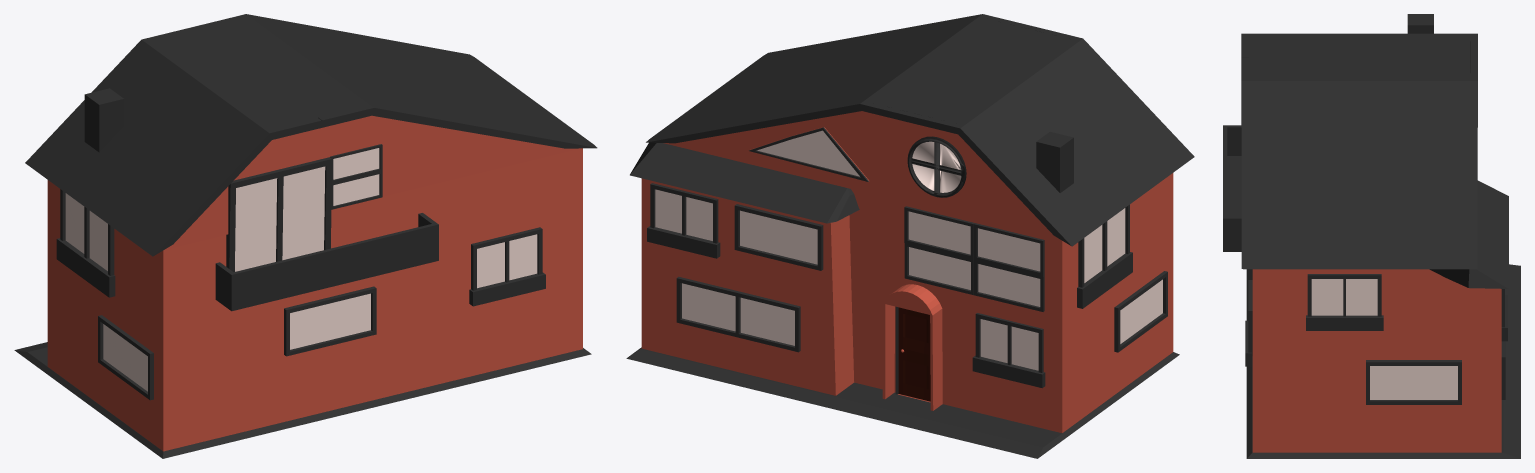
Rendered from bighouse.obj.
3 views of the same model, side by side, from view 1: azimuth 30°, elevation 25°; view 2: azimuth 150°, elevation 25°; view 3: azimuth 270°, elevation 25° (orthographic). The views are drawn at different scales.
Parts seen in each view (by area): view 1: Cube.002; view 2: Cube.002; view 3: Cube.002.
Boxes of the visible parts, x1,y1,x2,y2 form: Cube.002: (14, 14, 597, 458); Cube.002: (626, 14, 1194, 458); Cube.002: (1223, 14, 1520, 458).
Bounding box in the file's own units: 4.44 × 2.88 × 2.79.
